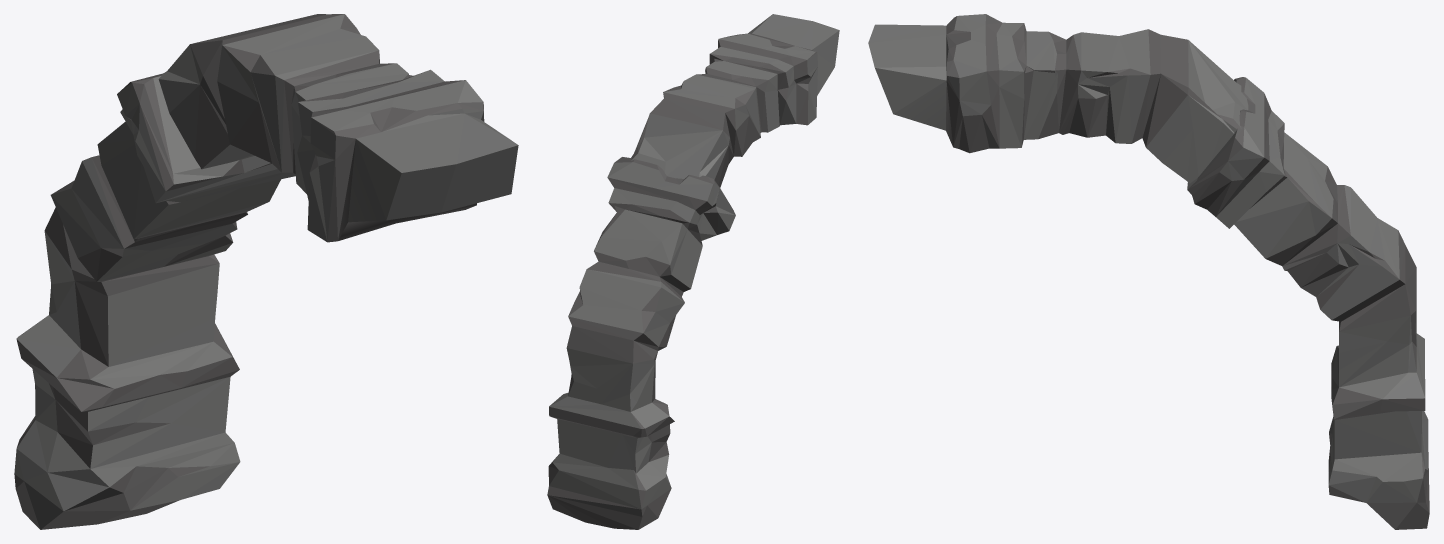
Rendered from SM_Env_Ceiling_Stone_Pillar_01.FBX.
The picture shows the model from 3 angles, left to right: view 1: azimuth 30°, elevation 25°; view 2: azimuth 150°, elevation 25°; view 3: azimuth 270°, elevation 25°; orthographic projection. The views are drawn at different scales.
Visible parts, largest first — view 1: SM_Env_Ceiling_Stone_Pillar_01; view 2: SM_Env_Ceiling_Stone_Pillar_01; view 3: SM_Env_Ceiling_Stone_Pillar_01.
Part boxes in pixels (<box>): SM_Env_Ceiling_Stone_Pillar_01: <box>14,14,518,529</box>; SM_Env_Ceiling_Stone_Pillar_01: <box>547,14,839,529</box>; SM_Env_Ceiling_Stone_Pillar_01: <box>868,14,1429,529</box>.
Size of what is drawn, in the model's own units: 168 by 611 by 561.
